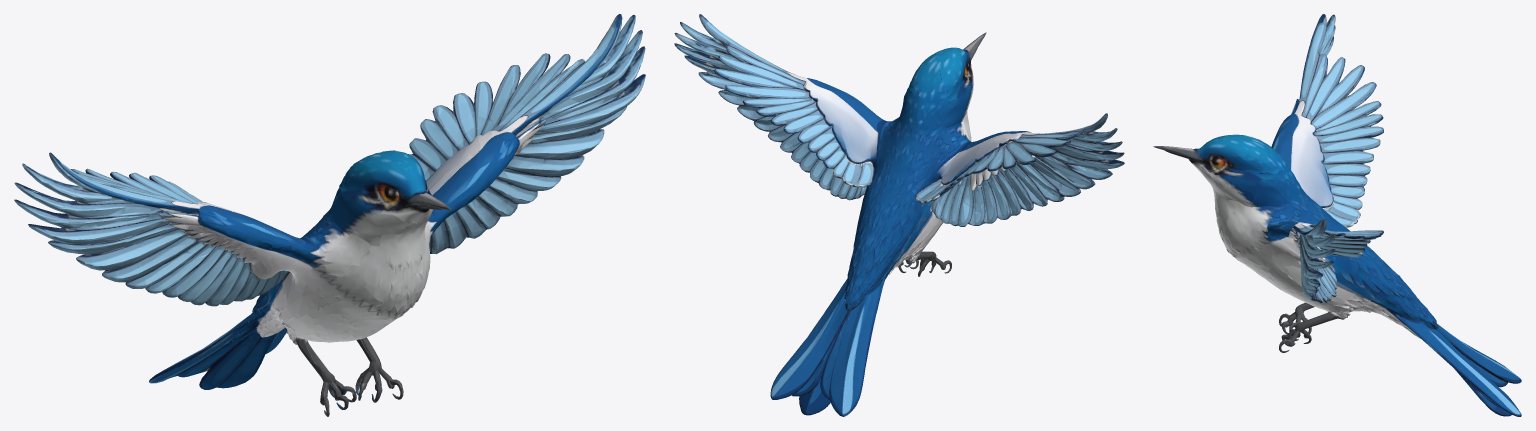
Rendered from small-model-ruribitaki.glb.
The picture shows the model from 3 angles, left to right: view 1: azimuth 30°, elevation 25°; view 2: azimuth 150°, elevation 25°; view 3: azimuth 270°, elevation 25°; orthographic projection. The views are drawn at different scales.
Parts seen in each view (by area): view 1: output_unwrapped; view 2: output_unwrapped; view 3: output_unwrapped.
Part boxes in pixels (x1,y1,x2,y2): output_unwrapped: [14, 14, 645, 416]; output_unwrapped: [674, 14, 1124, 416]; output_unwrapped: [1153, 14, 1521, 416].
Size of the model in its own units: 1.9 by 1.15 by 1.31.
1 material, 1 textured.
